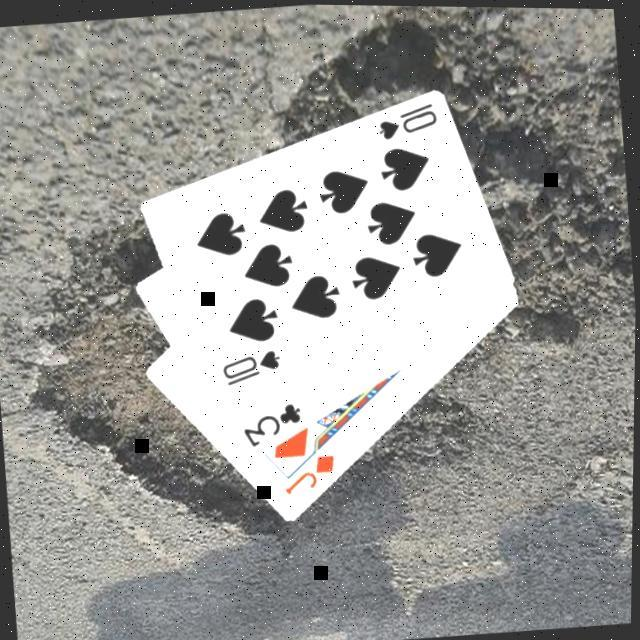10S: (219, 346, 289, 392), (374, 99, 444, 145)
3C: (240, 399, 311, 454)
JD: (280, 450, 345, 500)
